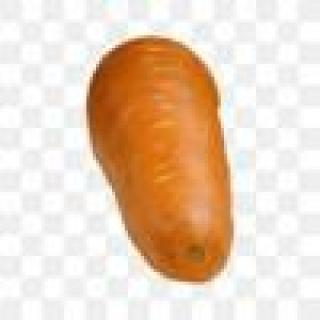Wortel: (46, 30, 283, 283)
